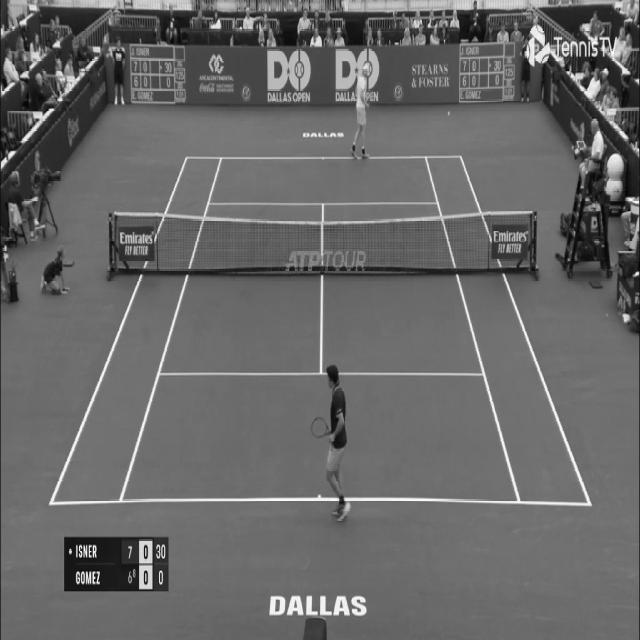tennis-court: (48, 156, 593, 506)
